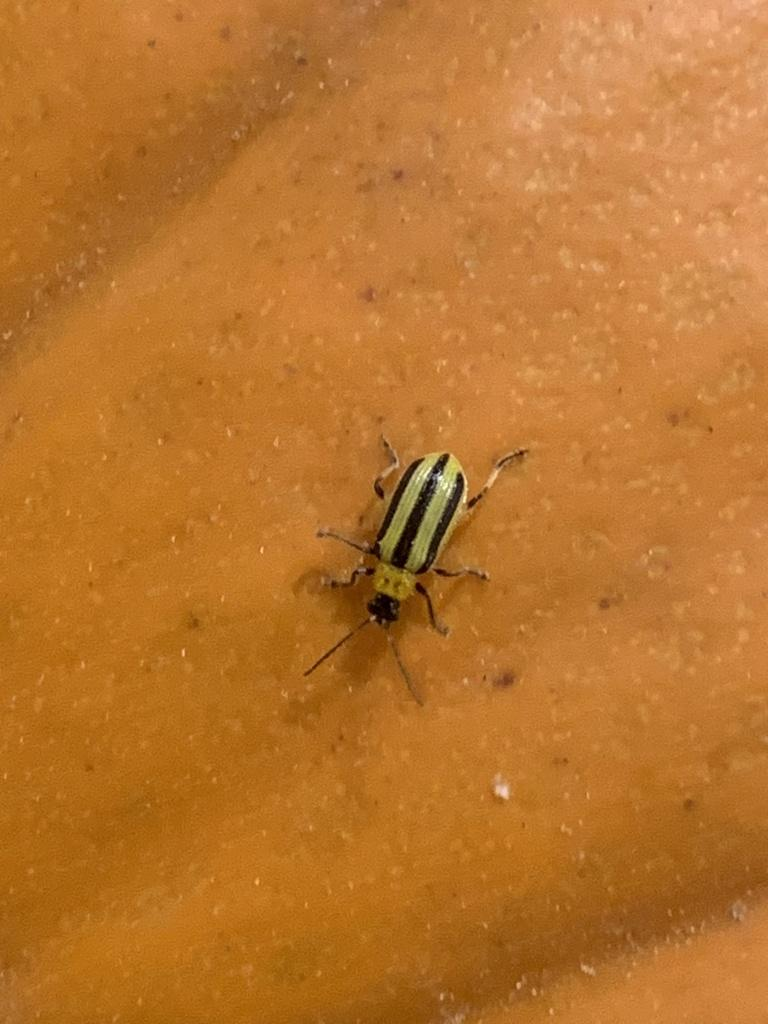potato_beetle: (266, 379, 551, 731)
